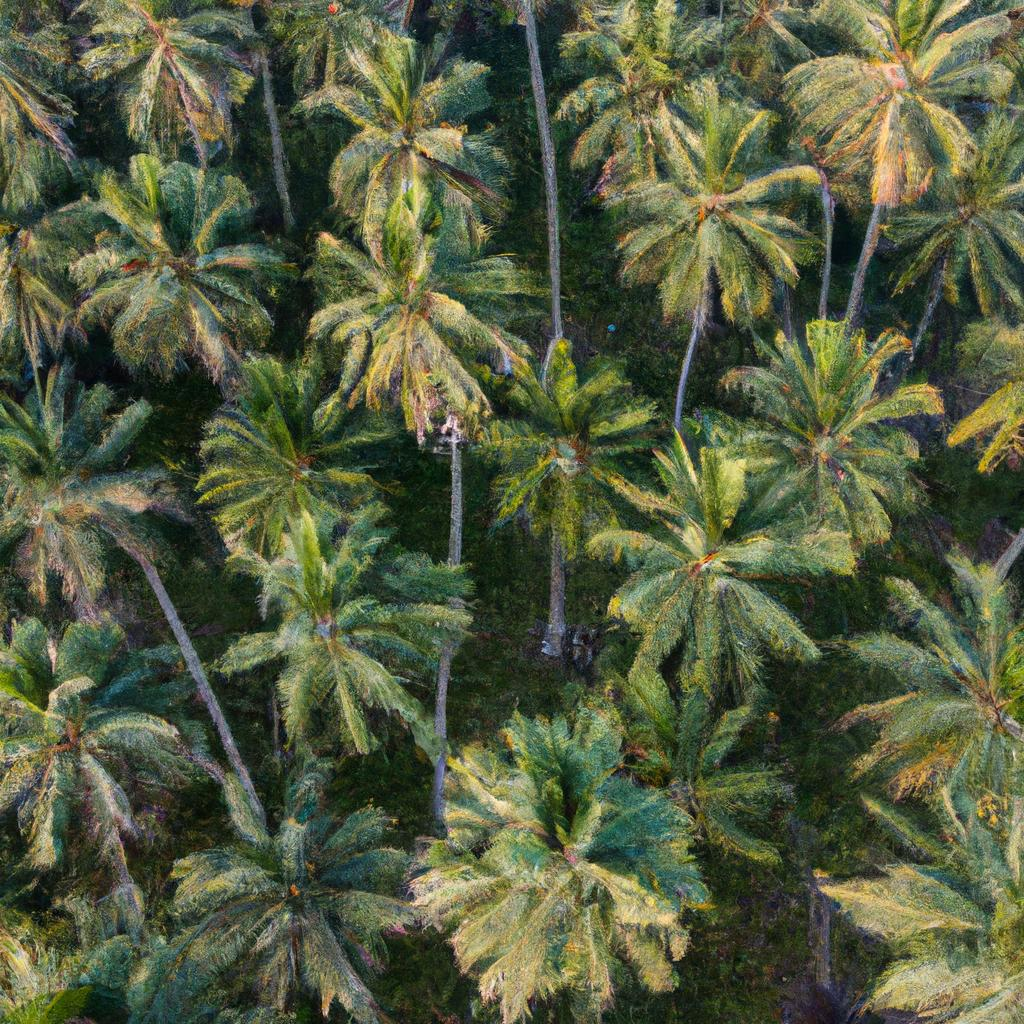coconut_tree: (423, 701, 715, 1020), (179, 756, 411, 1023), (574, 456, 839, 685), (707, 316, 953, 548), (612, 93, 824, 332), (305, 212, 535, 416), (257, 518, 472, 736), (0, 607, 199, 837), (80, 147, 283, 370), (793, 2, 1018, 196), (316, 32, 524, 208), (494, 366, 678, 553), (64, 1, 274, 154)
